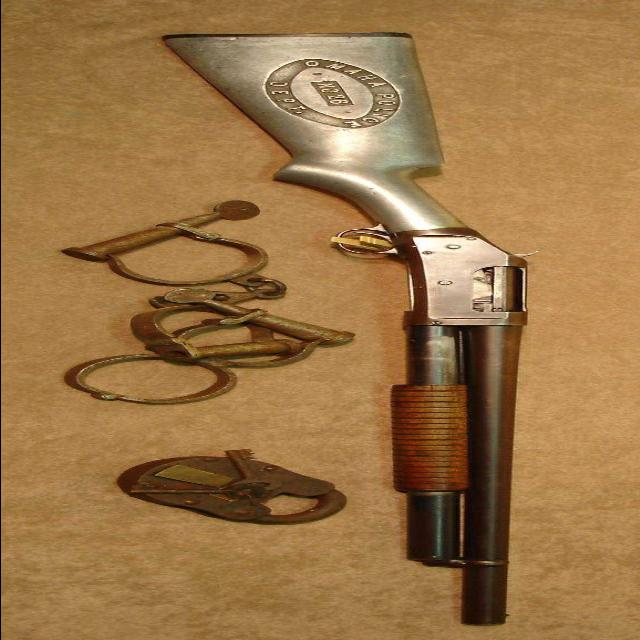heavyweapon: (122, 19, 600, 633)
